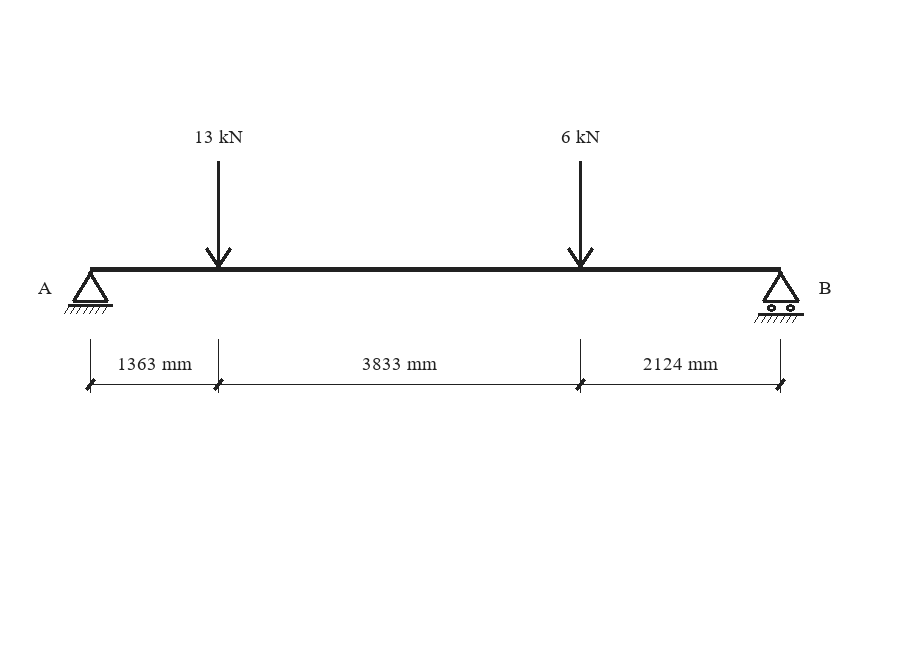pin_support: (64, 271, 113, 314)
point_load: (205, 161, 232, 268), (567, 161, 594, 268)
roller_support: (754, 271, 804, 323)
